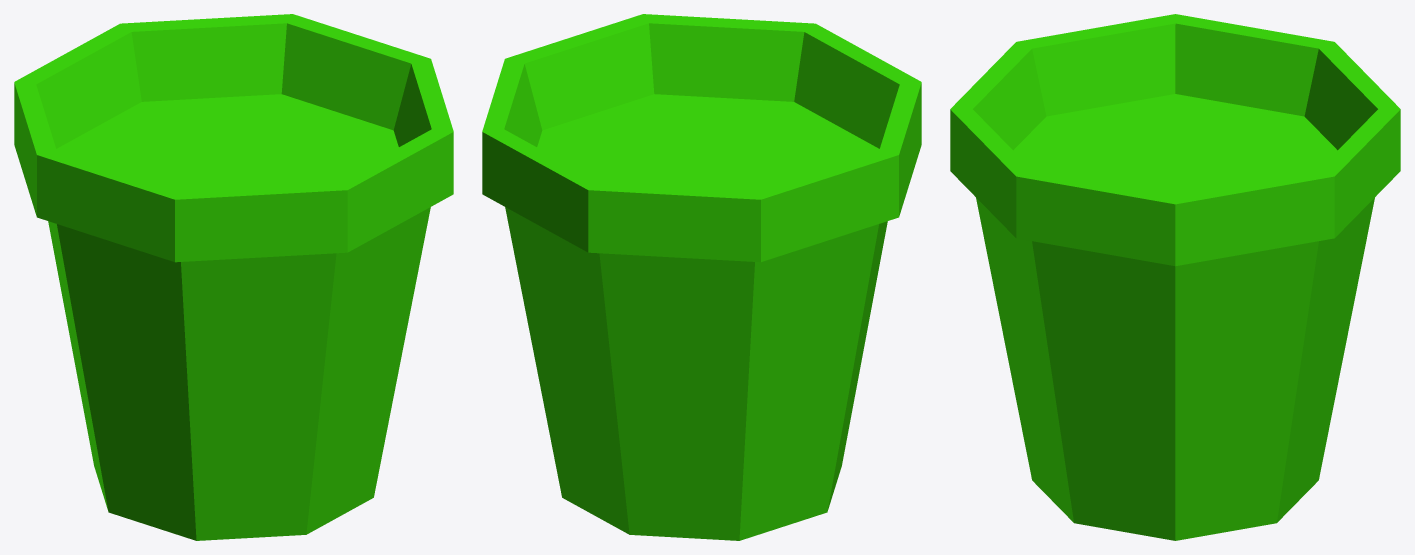
File: vase_empty.fbx
The picture shows the model from 3 angles, left to right: view 1: azimuth 30°, elevation 25°; view 2: azimuth 150°, elevation 25°; view 3: azimuth 270°, elevation 25°; orthographic projection.
Parts seen in each view (by area): view 1: vase_empty; view 2: vase_empty; view 3: vase_empty.
Part boxes in pixels (x1,y1,x2,y2): vase_empty: (14,14,453,540); vase_empty: (482,14,921,540); vase_empty: (950,14,1400,540).
Size of the model in its own units: 66 by 60 by 66.
